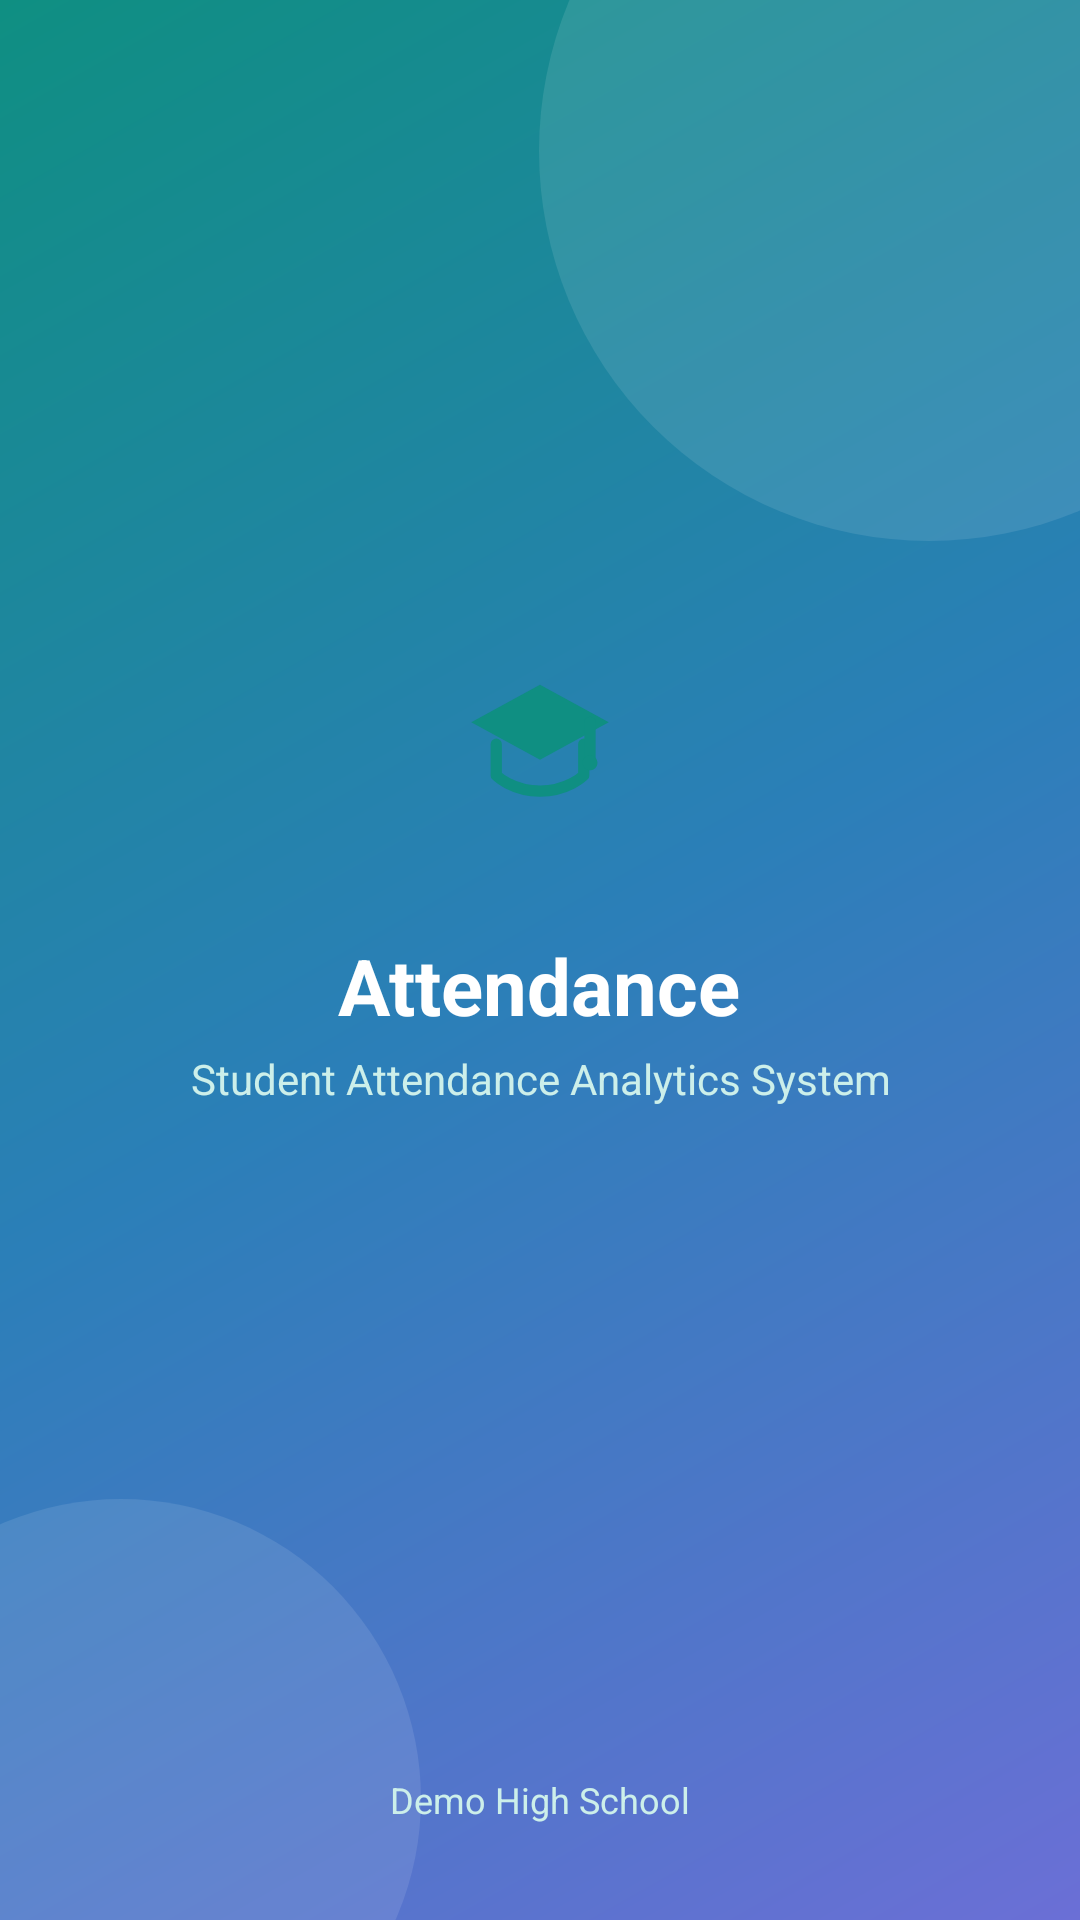

Screen size 1080x1920. Icon name, then its center in pixels as point (x, y):
school: point (540, 741)
